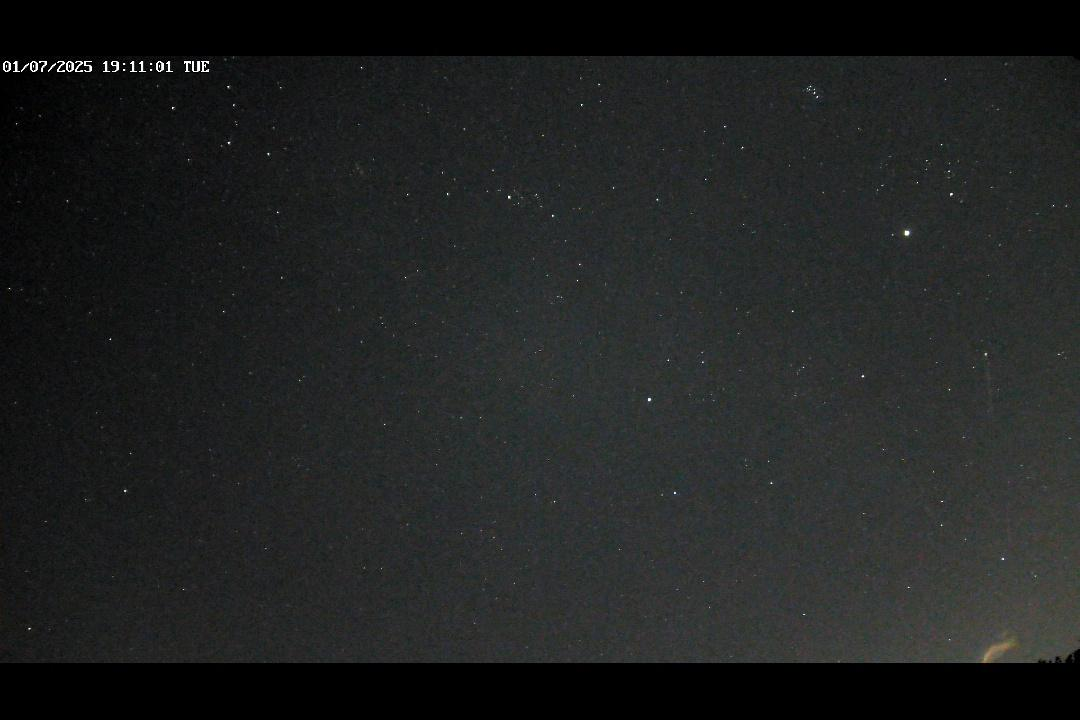Plane: (971, 349, 1006, 419)
